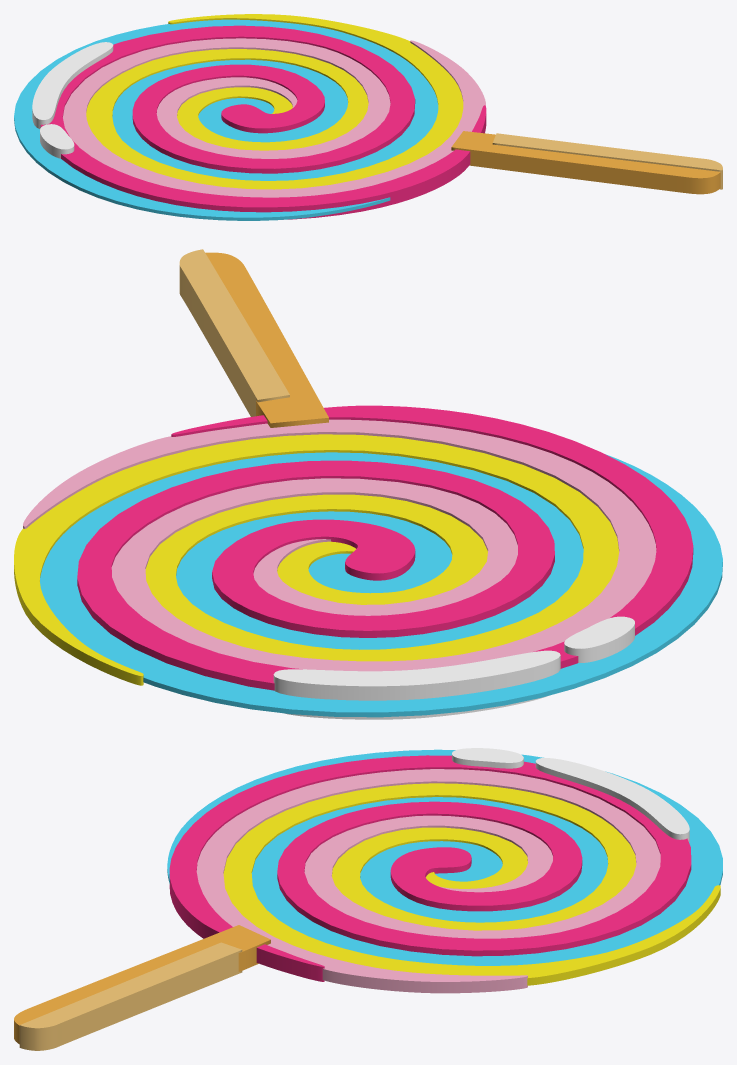
The model's file is emoji_u1f36d.glb.
3 renders of one model, top to bottom at view 1: azimuth 30°, elevation 25°; view 2: azimuth 150°, elevation 25°; view 3: azimuth 270°, elevation 25°, orthographic. The views are drawn at different scales.
Parts seen in each view (by area): view 1: emoji_u1f36d; view 2: emoji_u1f36d; view 3: emoji_u1f36d.
Boxes of the visible parts, x1=… form: emoji_u1f36d: x1=14, y1=14, x2=722, y2=220; emoji_u1f36d: x1=14, y1=249, x2=722, y2=719; emoji_u1f36d: x1=14, y1=748, x2=722, y2=1050.
Bounding box in the file's own units: 0.0327 × 0.0014 × 0.034.
